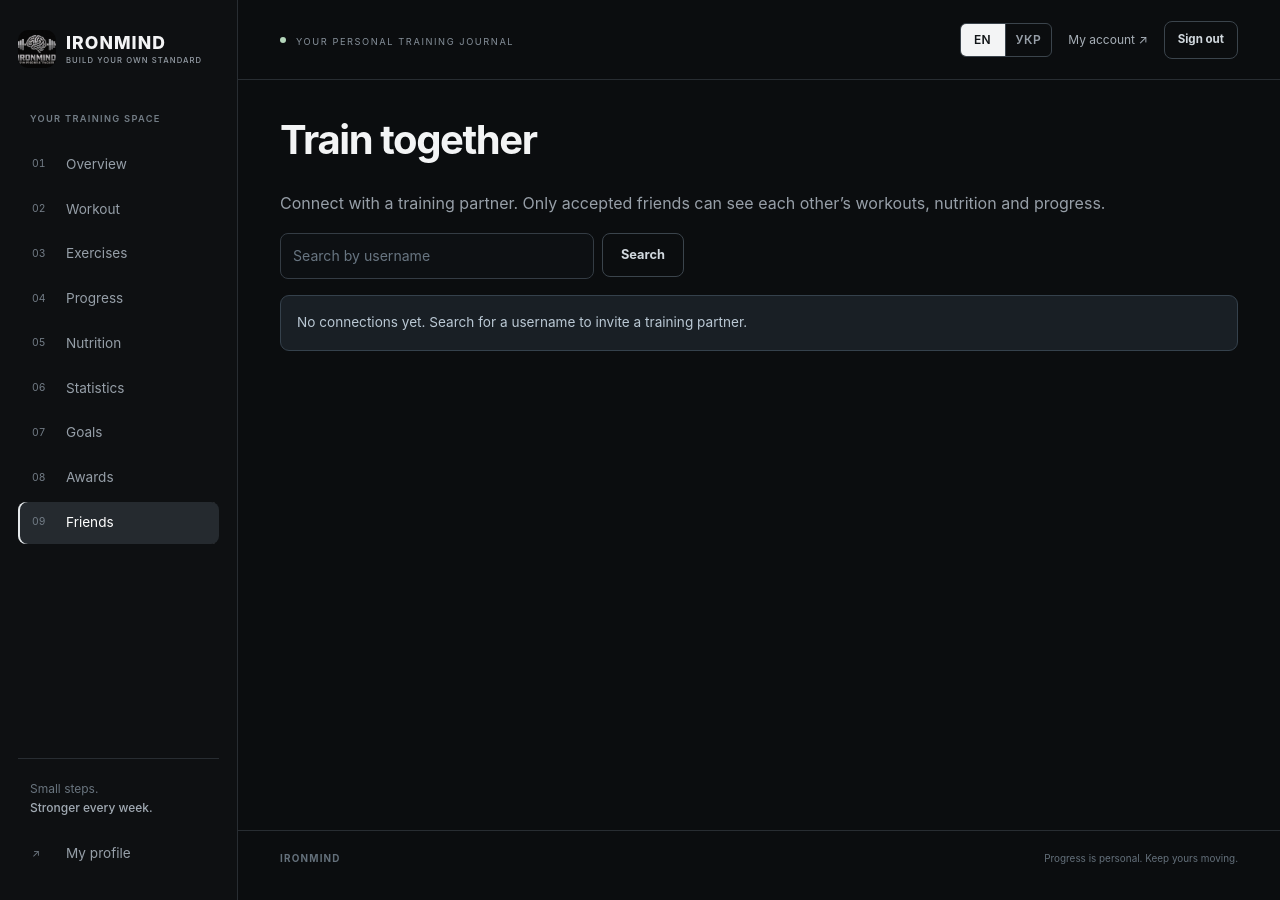
friends › searches by username, sends a request and shows the new status
expect the text "No connections yet. Search for a username to invite a training partner." is shown: met, box [280,295,1238,351]
In the field labelled "username": (437, 256) [280,233,594,279], type "part"
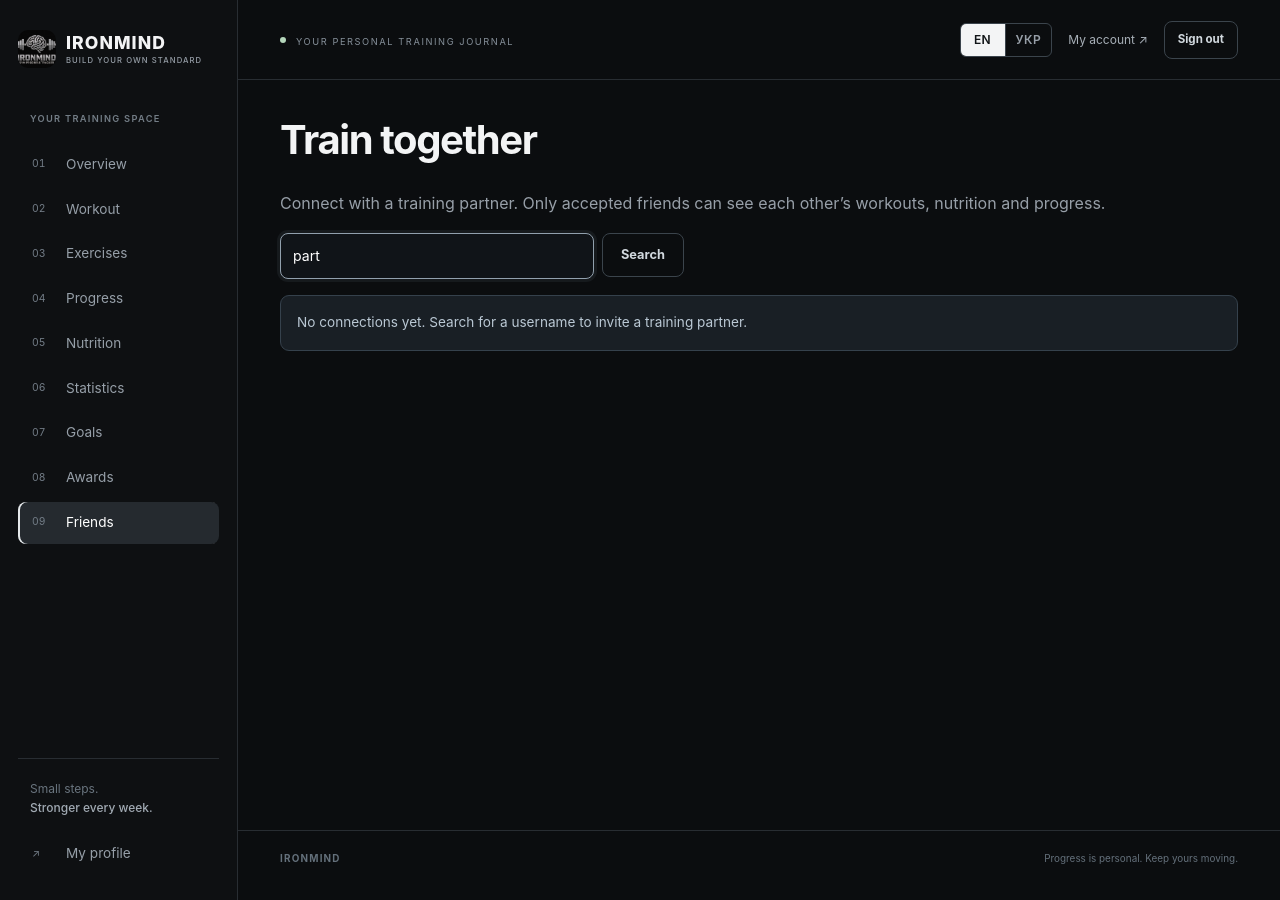
Click the button "Search": (643, 255) [602,233,684,277]
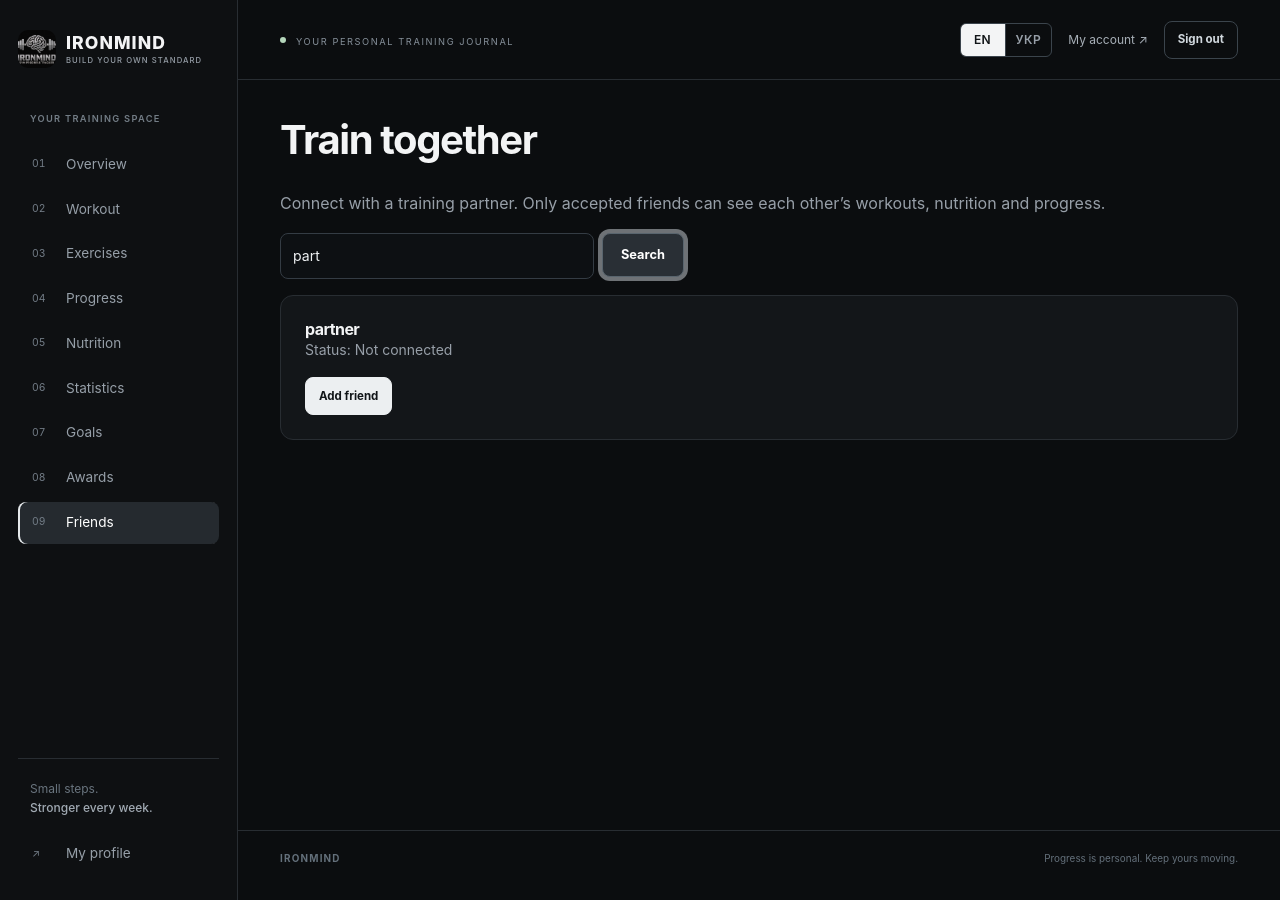
Click the button "Add friend": (349, 396) [305,377,392,415]
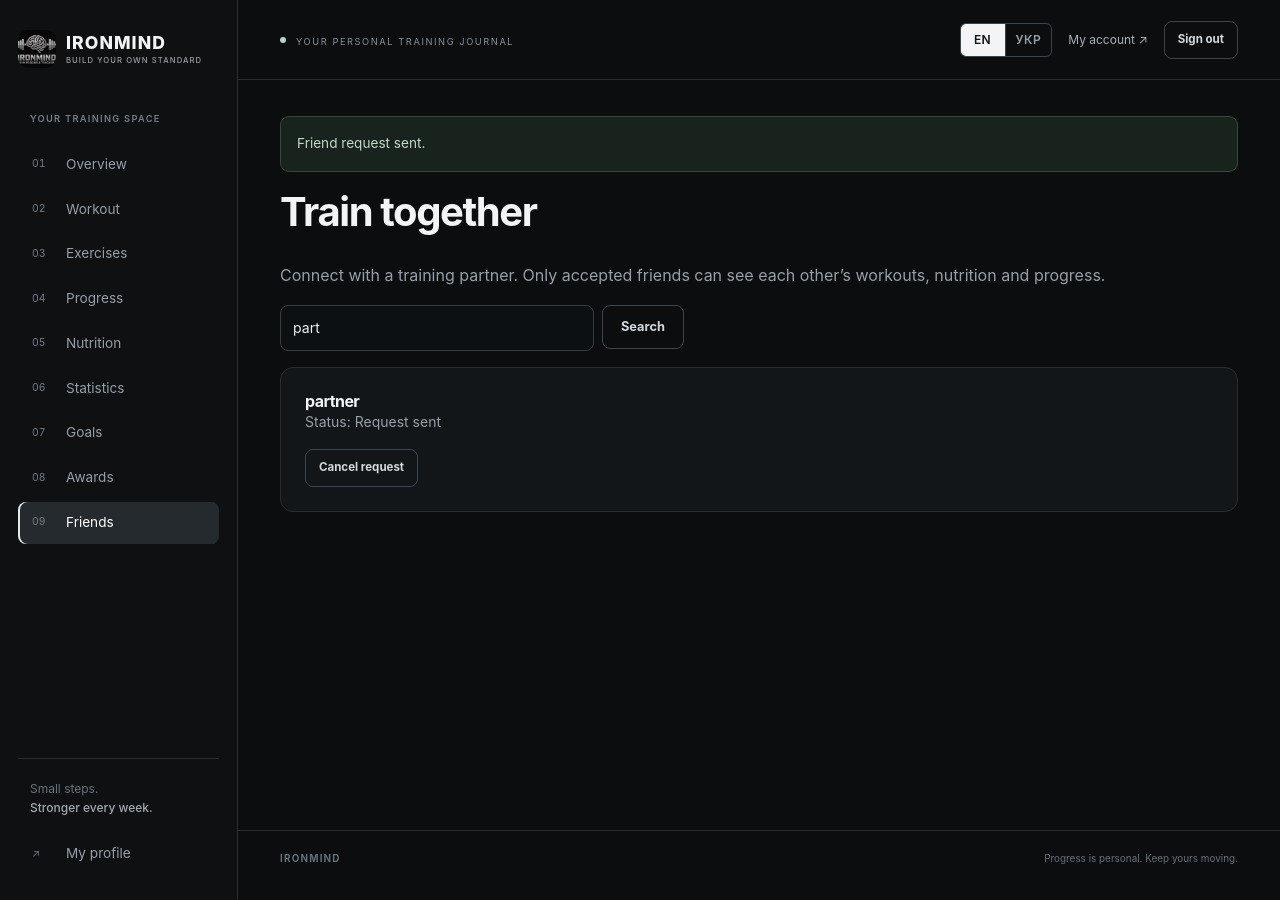
expect the text "Friend request sent." is shown: met, box [280,116,1238,172]
expect the button "Cancel request" is shown: met, box [305,449,418,487]
expect the text "Status: Request sent" is shown: met, box [305,413,441,430]
